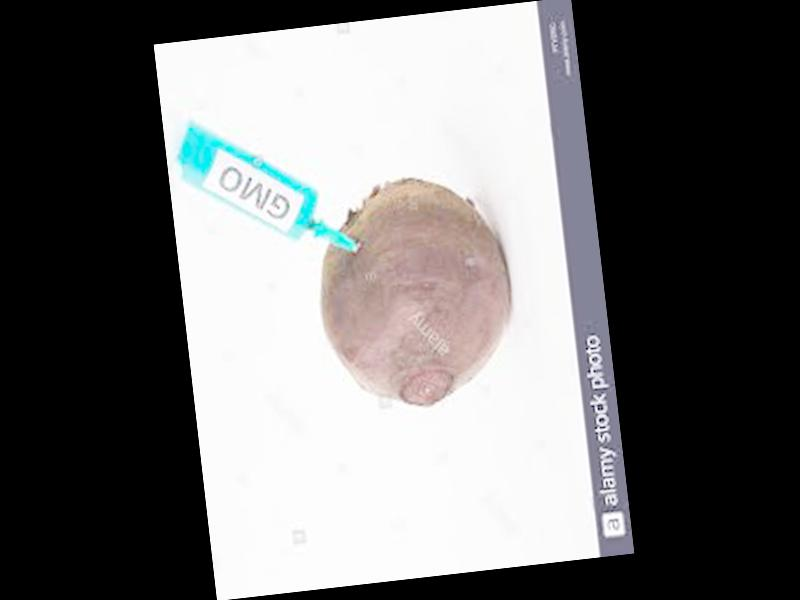Beet: (307, 172, 523, 415)
